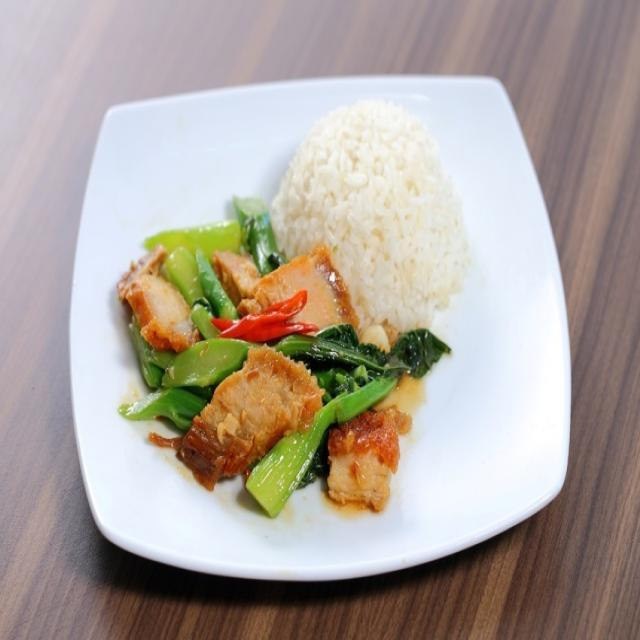cac loai rau cu: (142, 212, 283, 315), (292, 321, 453, 410), (137, 348, 247, 439), (254, 413, 340, 521)
com: (271, 96, 476, 339)
com chien cai xoan: (109, 92, 479, 522)
thit heo: (174, 339, 322, 498), (242, 262, 368, 349), (330, 400, 415, 516), (121, 264, 206, 354)
